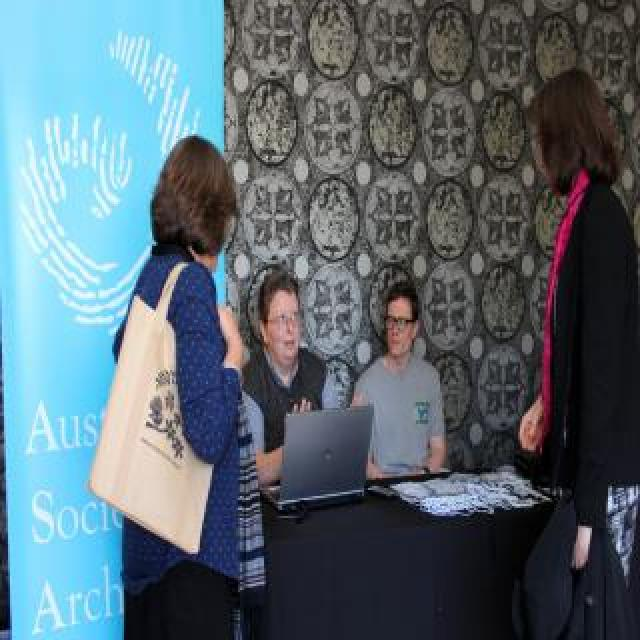laptop_computer: (253, 400, 412, 523)
